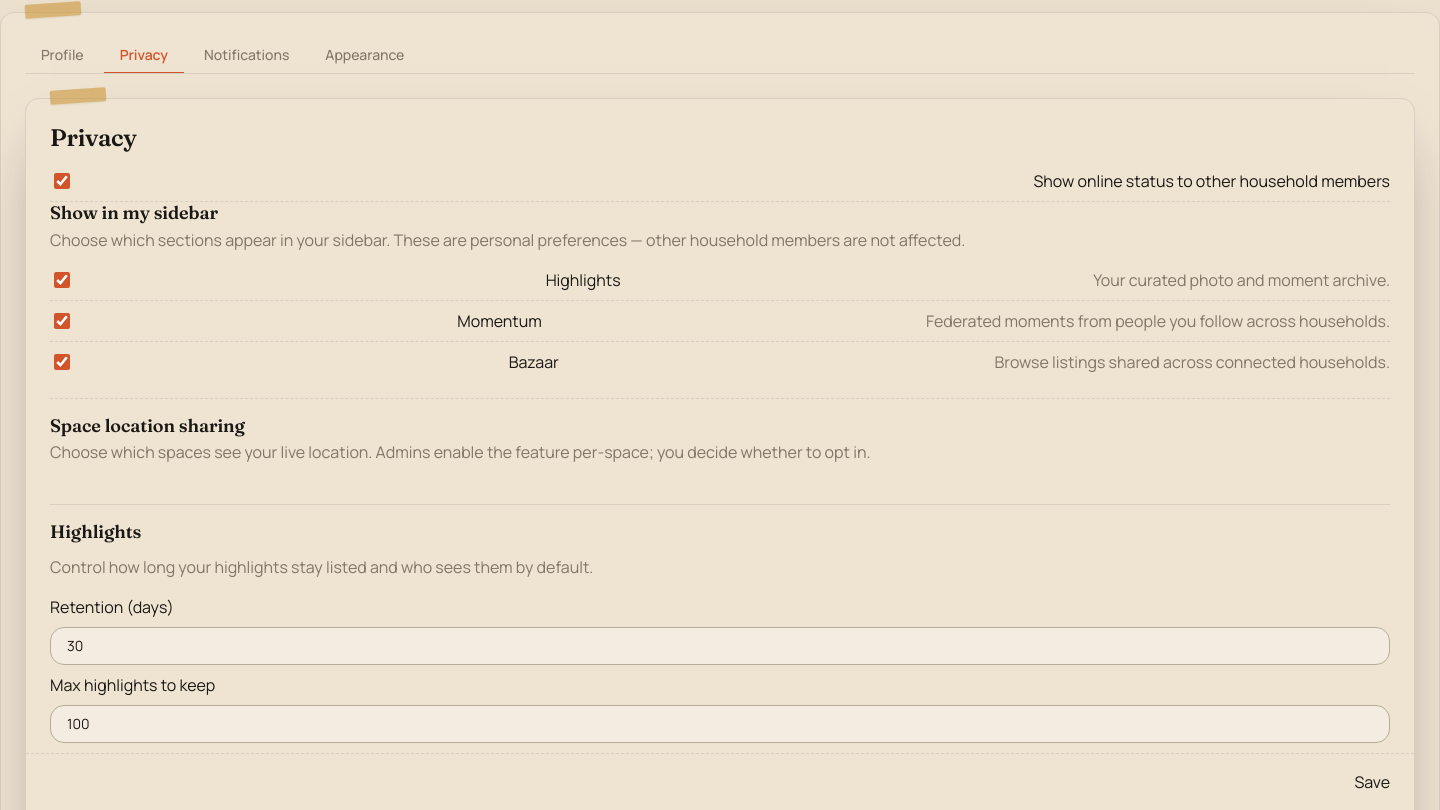
Test: SpaceLocationSharingPanel › shows the empty-state message when no spaces have location enabled
Click the tab "Privacy" at (144, 56), box left=104, top=37, right=184, bottom=74
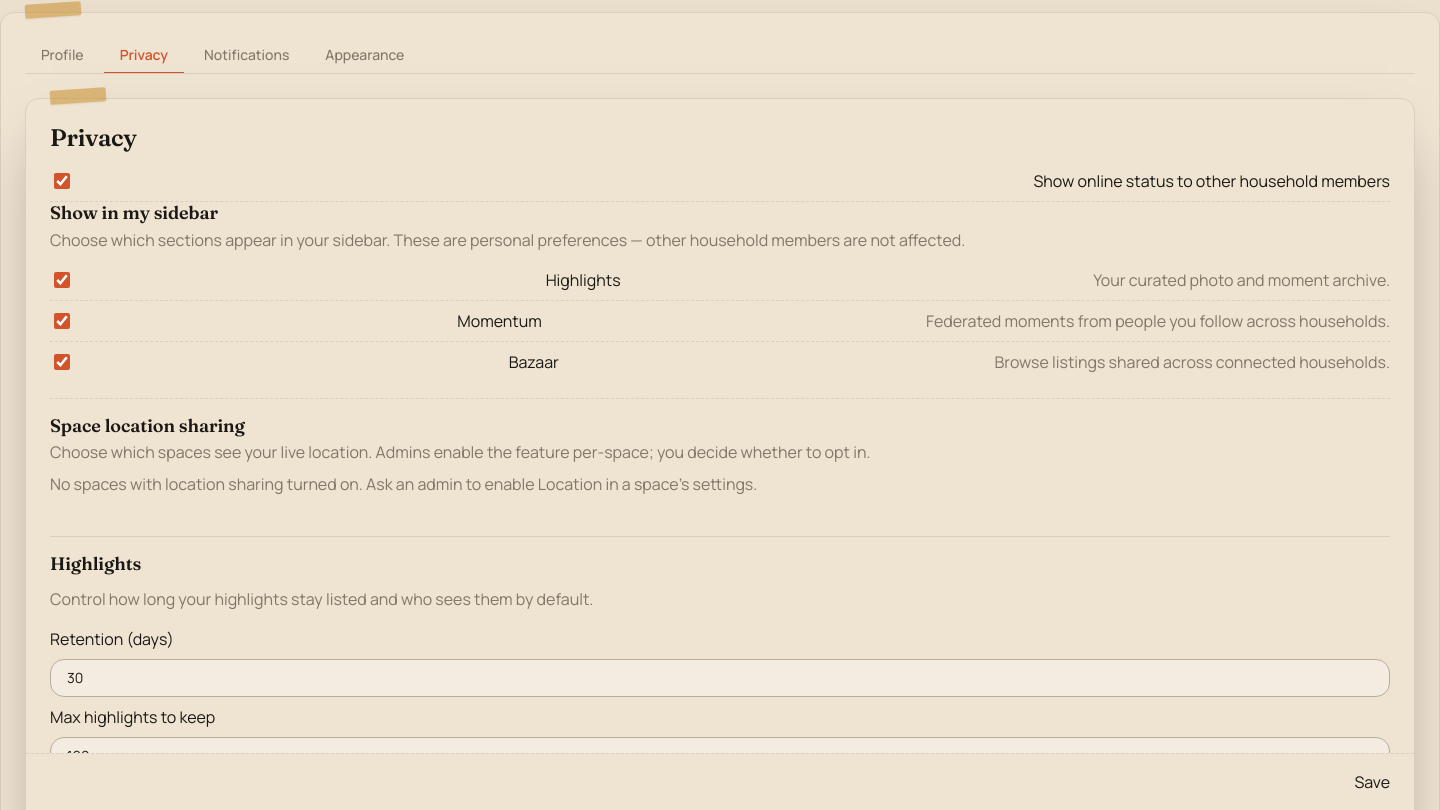
Expected: the text "No spaces with location sharing turned on" is shown, left=50, top=473, right=757, bottom=495
